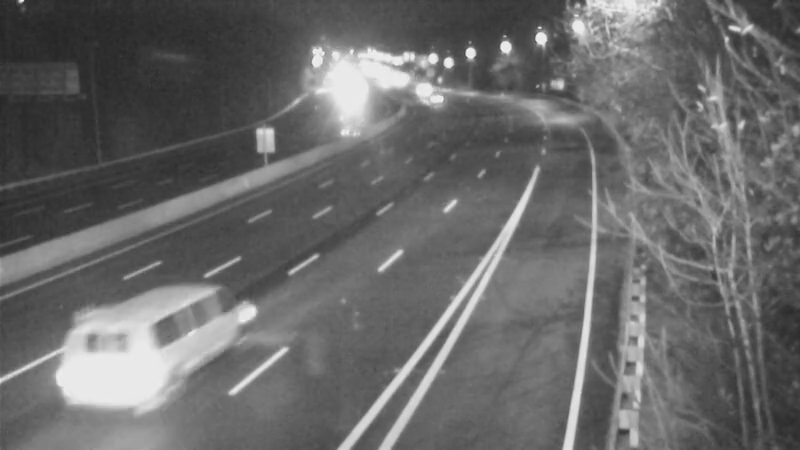vehicle: (57, 324, 167, 434), (392, 61, 442, 111), (409, 76, 459, 126)
